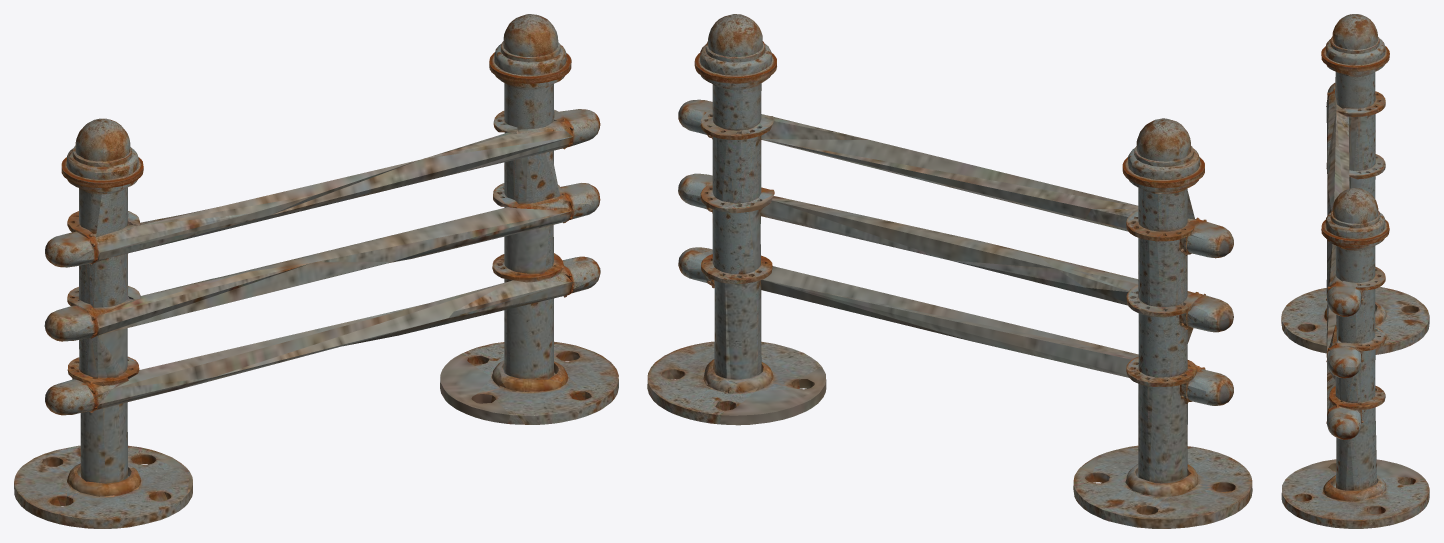
The model's file is transenna.glb.
3 renders of one model, left to right at view 1: azimuth 30°, elevation 25°; view 2: azimuth 150°, elevation 25°; view 3: azimuth 270°, elevation 25°, orthographic. The views are drawn at different scales.
Parts seen in each view (by area): view 1: Mesh_0; view 2: Mesh_0; view 3: Mesh_0.
Boxes of the visible parts, x1,y1,x2,y2 form: Mesh_0: [14, 14, 618, 528]; Mesh_0: [647, 14, 1252, 528]; Mesh_0: [1281, 14, 1429, 528].
Bounding box in the file's own units: 2 × 1.22 × 0.5313.
1 material, 1 textured.
